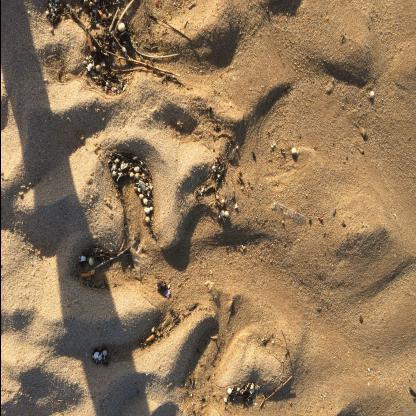kopuk: (82, 275, 91, 279)
